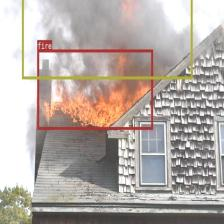fire: (37, 49, 153, 129)
smoke: (21, 0, 192, 78)
